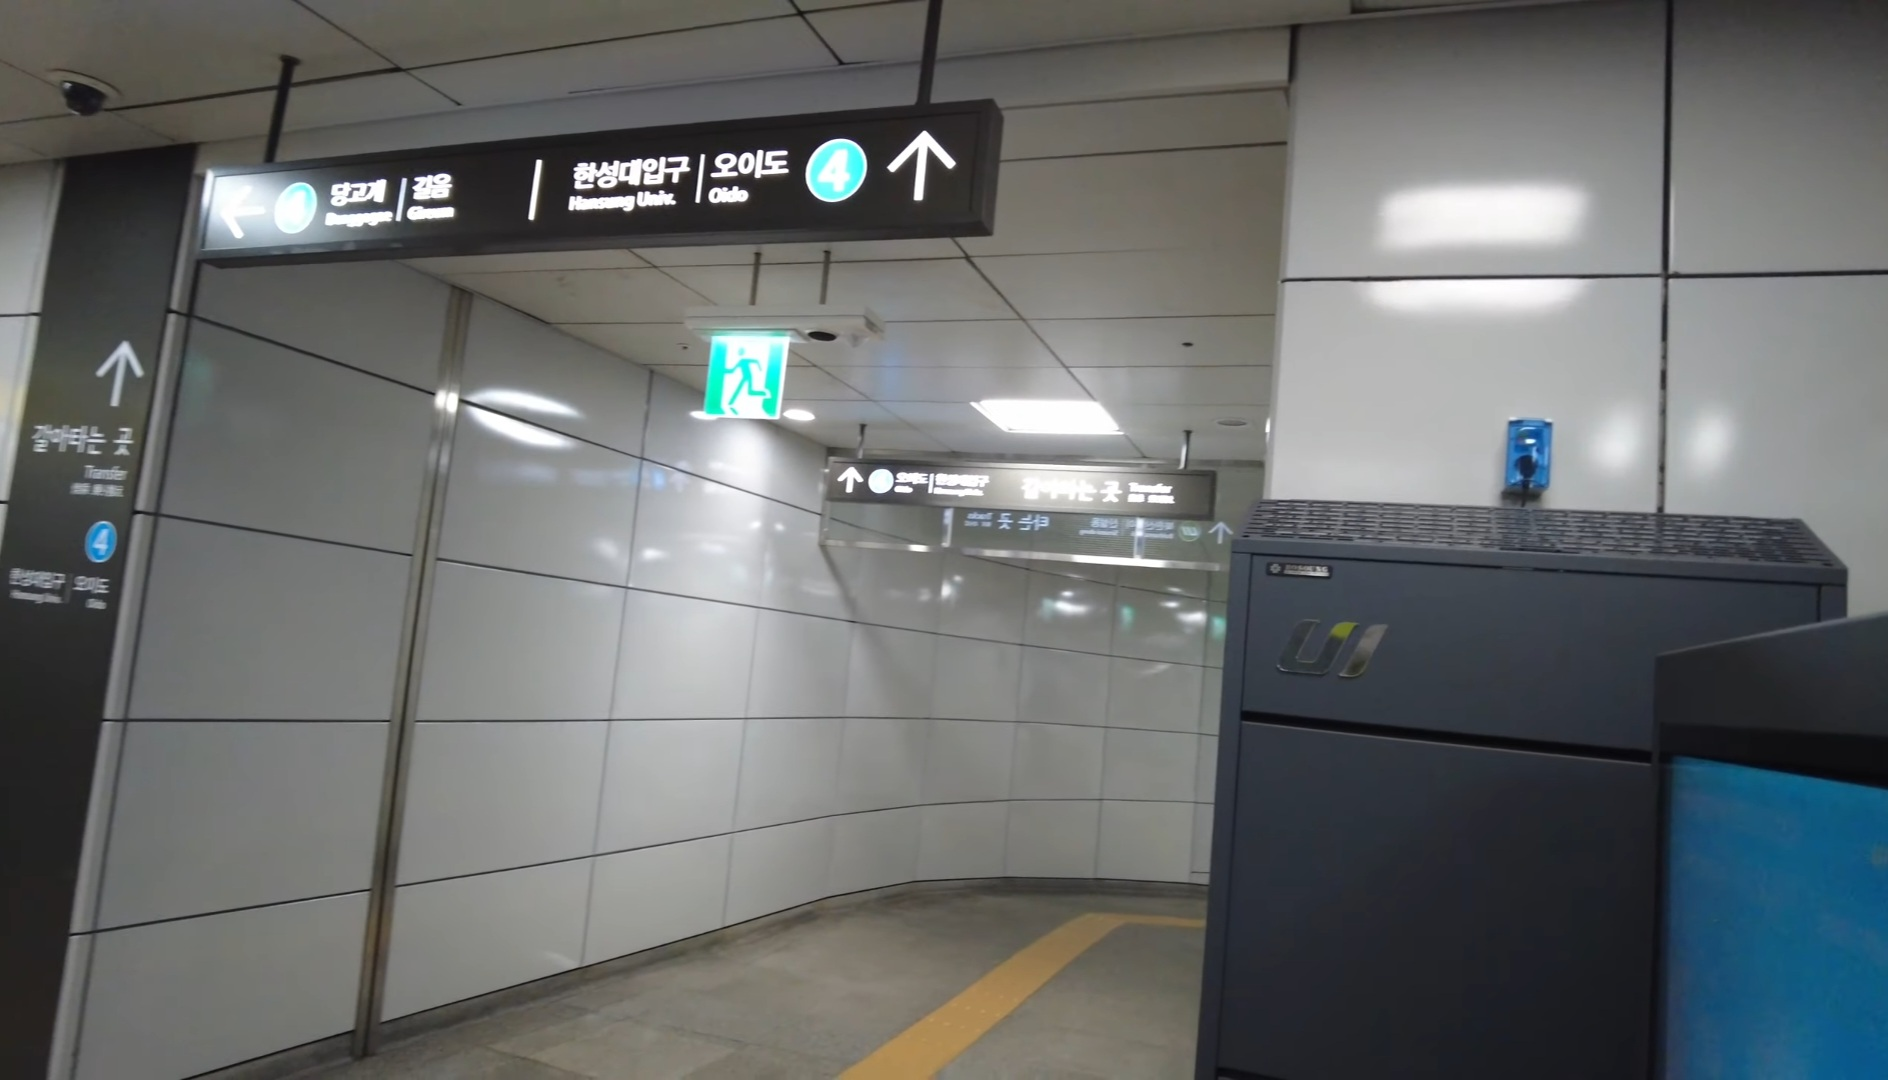signBoard: (205, 86, 1006, 264)
